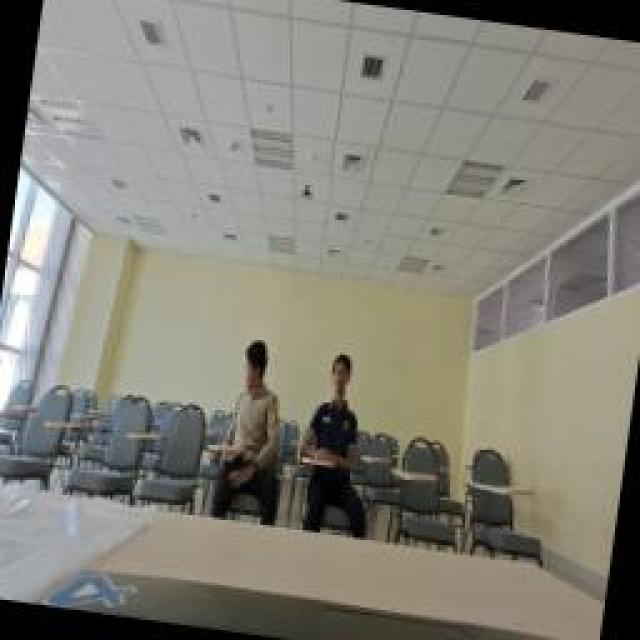study: (290, 345, 388, 537), (208, 328, 300, 522)
